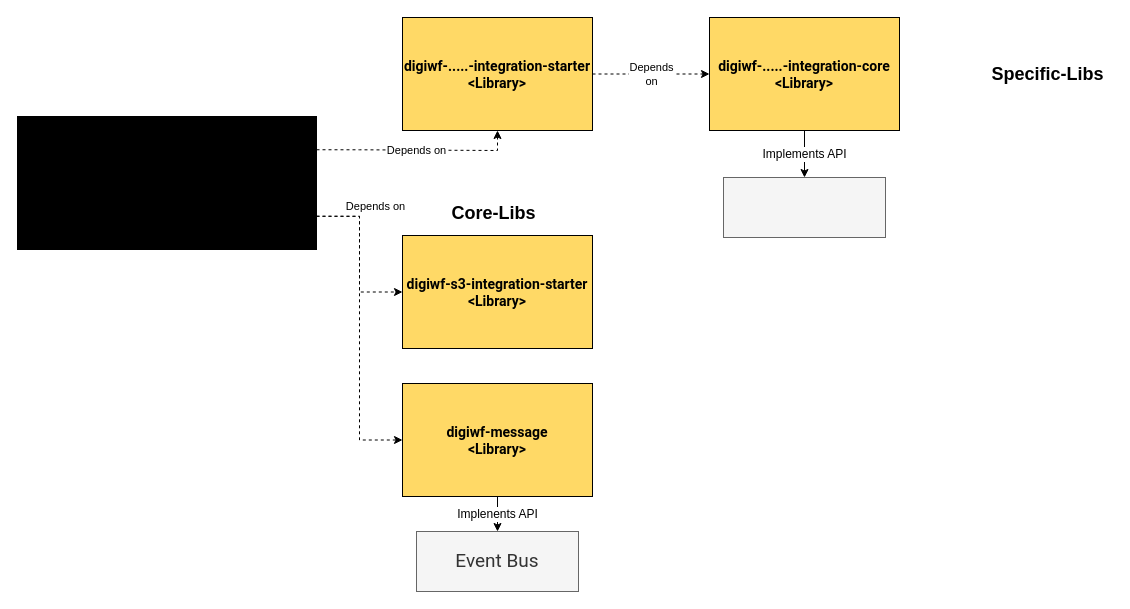
This 1130x609 diagram has some shape labels left out. The shapes that lost their labels are listed below. From the top down, each one's centre as x and y in pixels, then its label:
[166,183]: digiwf-.....-integration-service <Runnable Service>
[804,207]: External System
